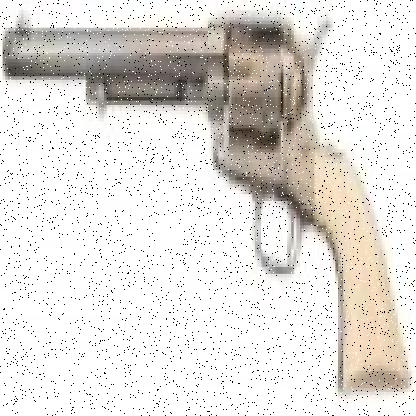pistol: (5, 10, 405, 388)
